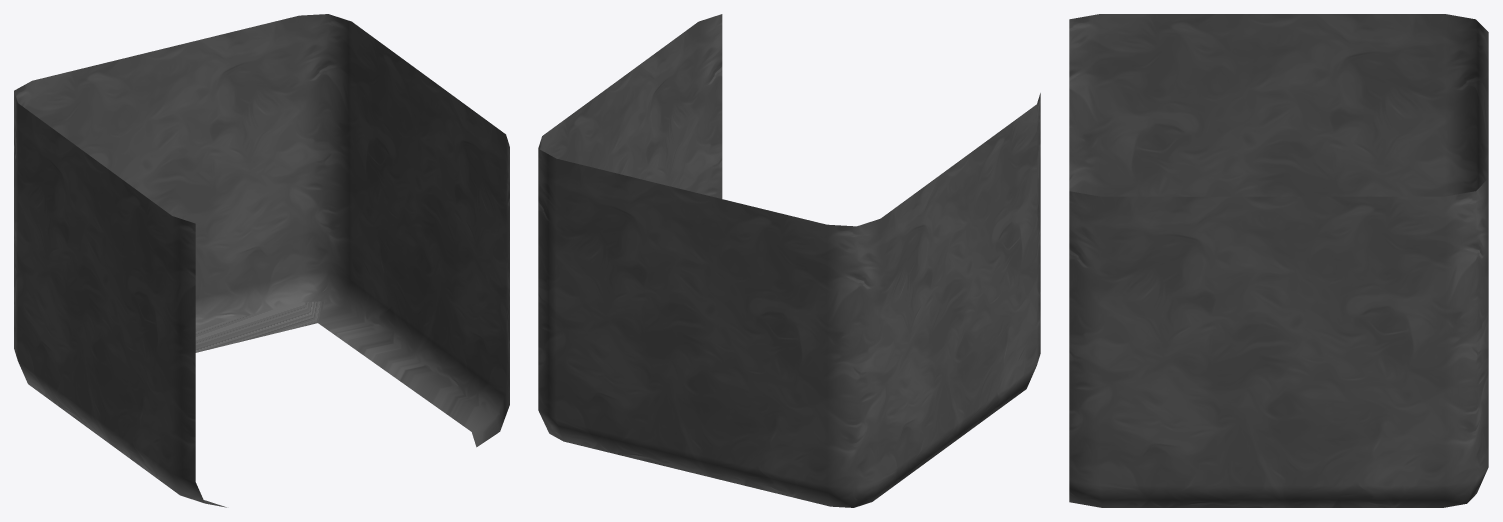
Rendered from GrassWallBottomClip.fbx.
The picture shows the model from 3 angles, left to right: view 1: azimuth 30°, elevation 25°; view 2: azimuth 150°, elevation 25°; view 3: azimuth 270°, elevation 25°; orthographic projection. The views are drawn at different scales.
Parts seen in each view (by area): view 1: GrassWallBottomClip; view 2: GrassWallBottomClip; view 3: GrassWallBottomClip.
Part boxes in pixels (x1,y1,x2,y2): GrassWallBottomClip: [14, 14, 509, 507]; GrassWallBottomClip: [538, 14, 1040, 507]; GrassWallBottomClip: [1069, 14, 1488, 507].
Bounding box in the file's own units: 93.6 × 78.37 × 90.86.
